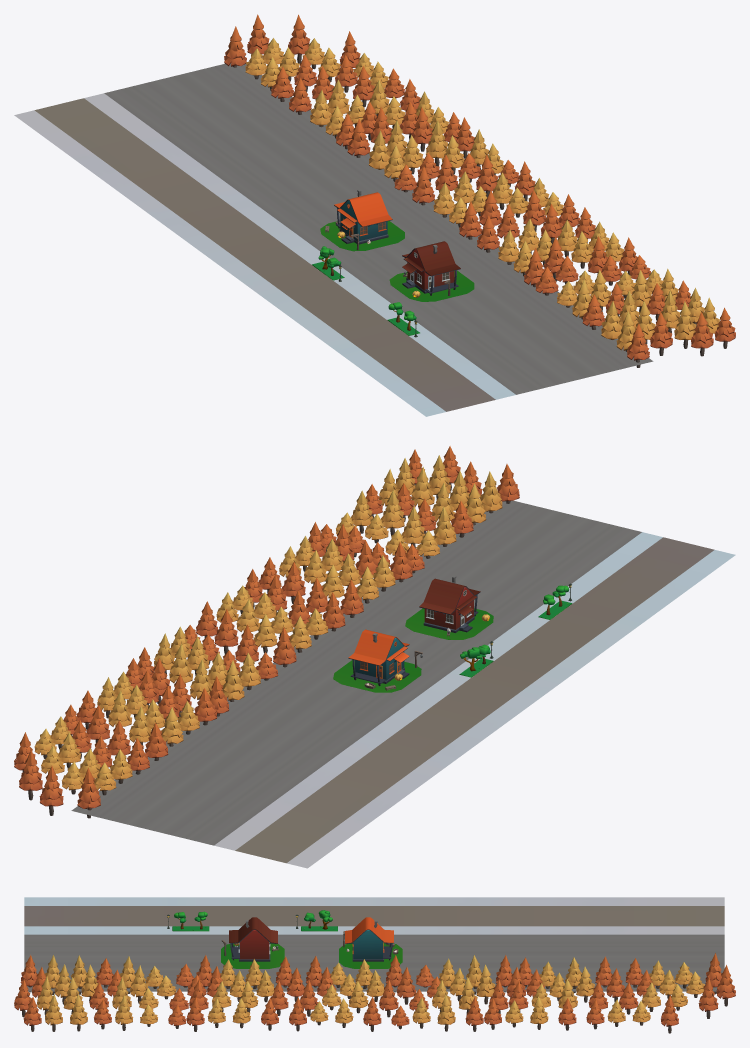
File: MainMenuScene.fbx
The picture shows the model from 3 angles, top to bottom: view 1: azimuth 30°, elevation 25°; view 2: azimuth 150°, elevation 25°; view 3: azimuth 270°, elevation 25°; orthographic projection. The views are drawn at different scales.
Visible parts, largest first — view 1: Plane.005, tree_pine_orange_large_Cube.019, Plane.007, Plane.008, Cube.027, Cube.026, Plane.013, Plane.011; view 2: Plane.005, tree_pine_orange_large_Cube.019, Plane.007, Plane.008, Cube.027, Cube.026, Plane.011, Plane.013; view 3: tree_pine_orange_large_Cube.019, Plane.005, Plane.007, Plane.008, Cube.026, Cube.027, Plane.013, Plane.011.
Boxes of the visible parts, x1=… form: Plane.005: x1=104, y1=63, x2=653, y2=394; tree_pine_orange_large_Cube.019: x1=224, y1=14, x2=735, y2=367; Plane.007: x1=34, y1=98, x2=495, y2=411; Plane.008: x1=14, y1=93, x2=515, y2=416; Cube.027: x1=402, y1=241, x2=460, y2=295; Cube.026: x1=334, y1=189, x2=392, y2=244; Plane.013: x1=389, y1=270, x2=474, y2=301; Plane.011: x1=320, y1=221, x2=404, y2=251; Plane.005: x1=71, y1=500, x2=641, y2=845; tree_pine_orange_large_Cube.019: x1=14, y1=446, x2=519, y2=818; Plane.007: x1=235, y1=537, x2=714, y2=863; Plane.008: x1=214, y1=532, x2=735, y2=868; Cube.027: x1=419, y1=575, x2=480, y2=632; Cube.026: x1=348, y1=629, x2=409, y2=685; Plane.011: x1=333, y1=660, x2=421, y2=692; Plane.013: x1=405, y1=608, x2=493, y2=639; tree_pine_orange_large_Cube.019: x1=14, y1=953, x2=735, y2=1033; Plane.005: x1=24, y1=934, x2=724, y2=991; Plane.007: x1=24, y1=906, x2=724, y2=926; Plane.008: x1=24, y1=897, x2=724, y2=934; Cube.026: x1=345, y1=917, x2=393, y2=961; Cube.027: x1=229, y1=917, x2=277, y2=961; Plane.013: x1=221, y1=942, x2=284, y2=968; Plane.011: x1=339, y1=943, x2=402, y2=968.
Size of the model in its own units: 6554 by 1036 by 15319.
Materials: 14 (13 with a texture image).
